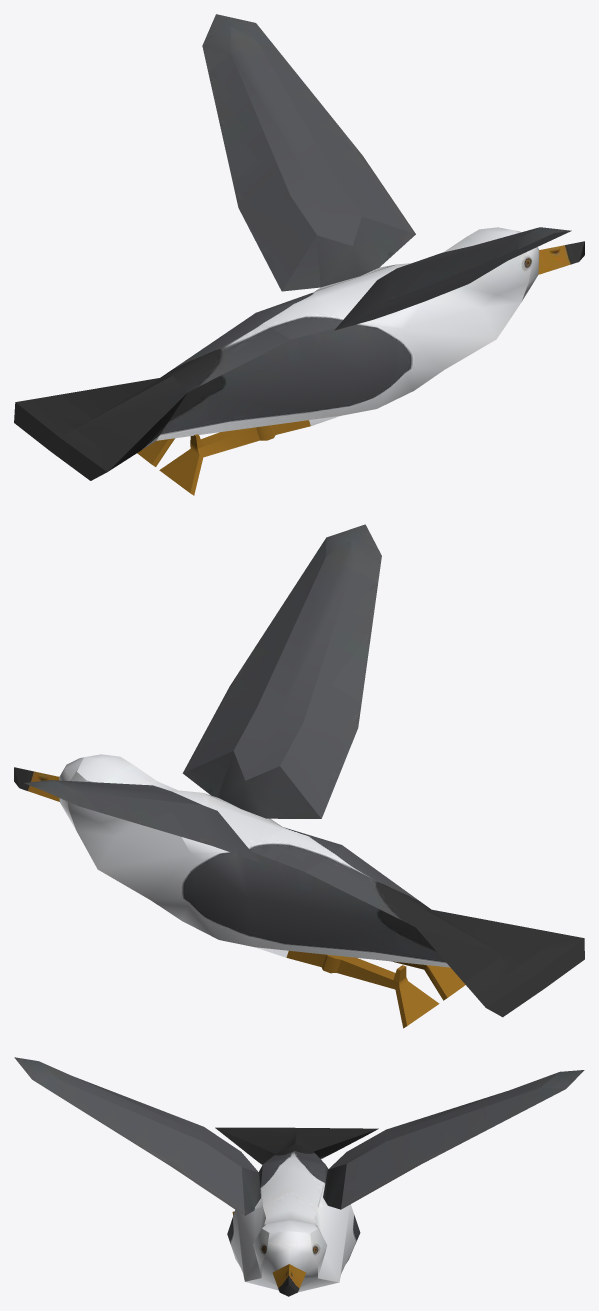
Rendered from eMNhHDZakYp.glb.
3 renders of one model, top to bottom at view 1: azimuth 30°, elevation 25°; view 2: azimuth 150°, elevation 25°; view 3: azimuth 270°, elevation 25°, orthographic. The views are drawn at different scales.
Visible parts, largest first — view 1: Flying_seagull; view 2: Flying_seagull; view 3: Flying_seagull.
Boxes of the visible parts, x1,y1,x2,y2 form: Flying_seagull: (14, 14, 584, 495); Flying_seagull: (14, 524, 584, 1028); Flying_seagull: (14, 1057, 584, 1296).
Size of the model in its own units: 1.86 by 0.9999 by 2.
1 material, 1 textured.
